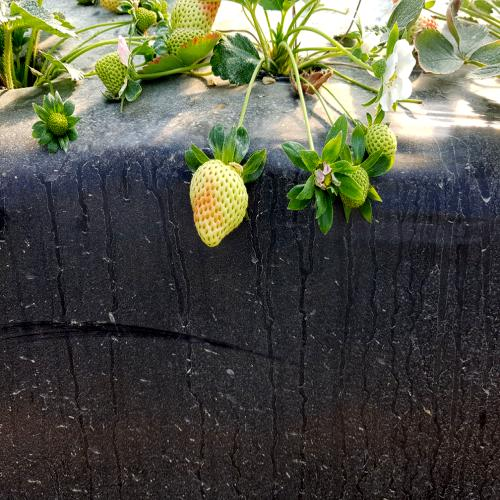partially-ripe: (179, 158, 259, 248)
